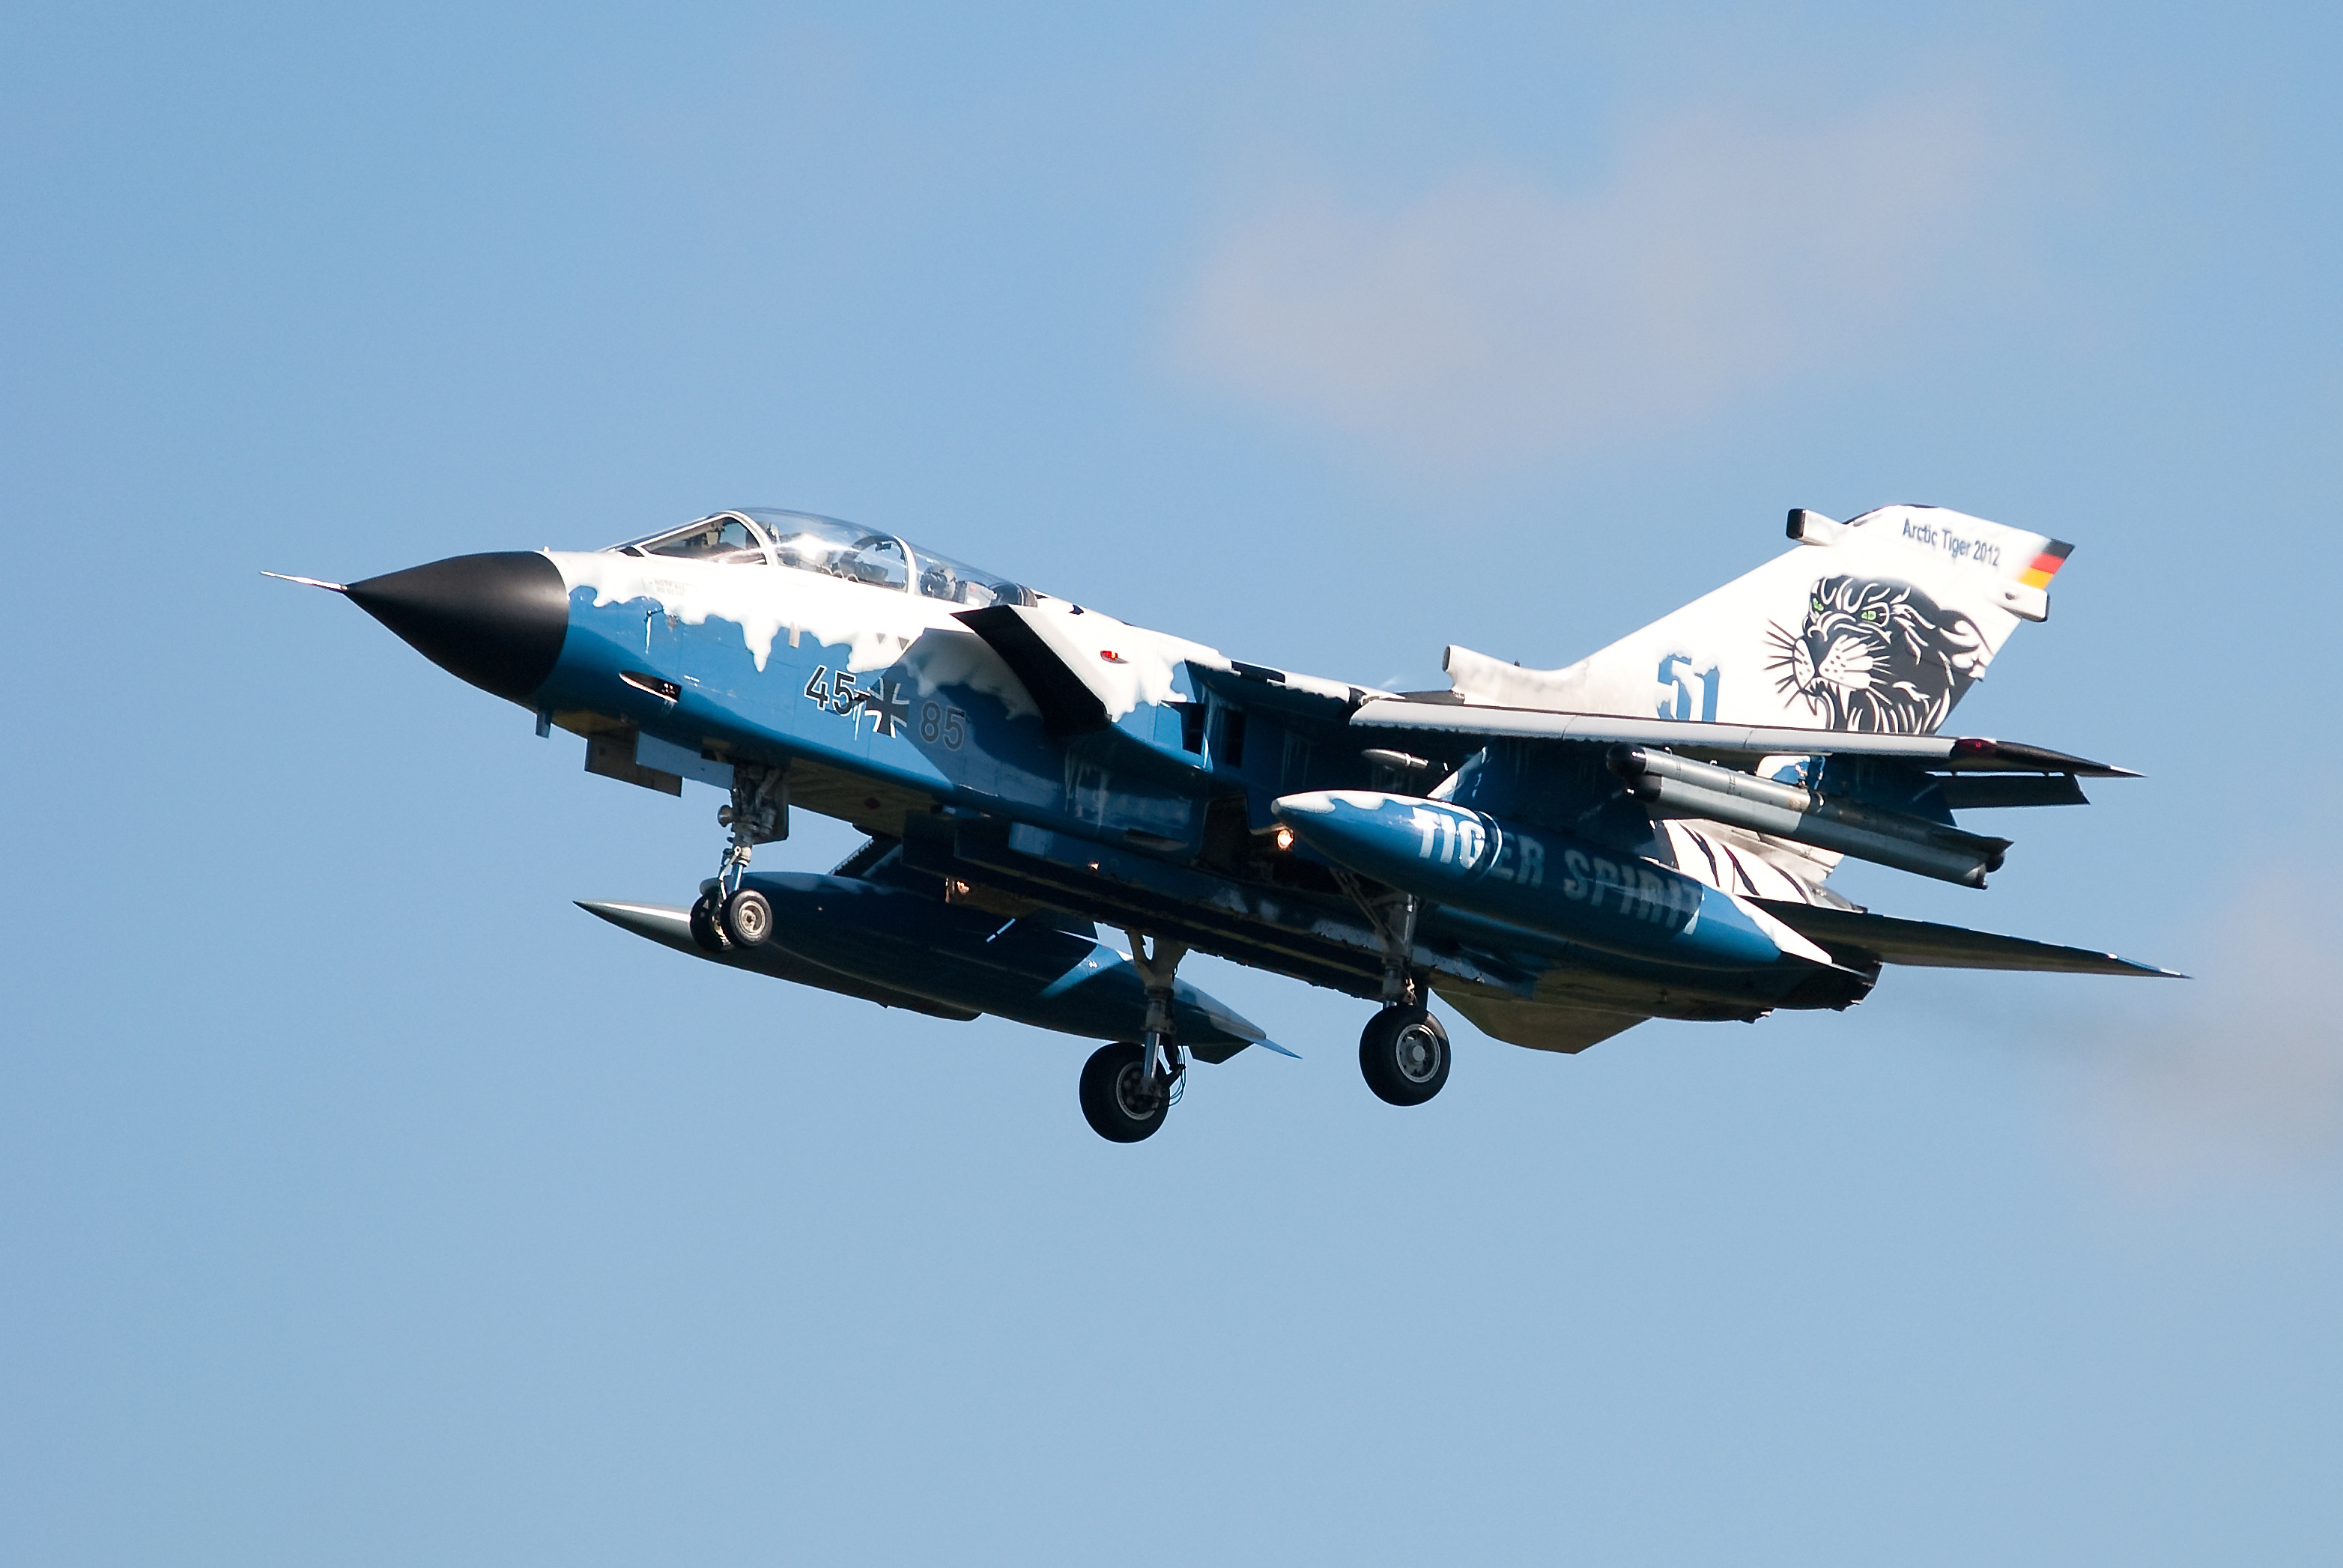Tornado: (255, 502, 2194, 1143)
